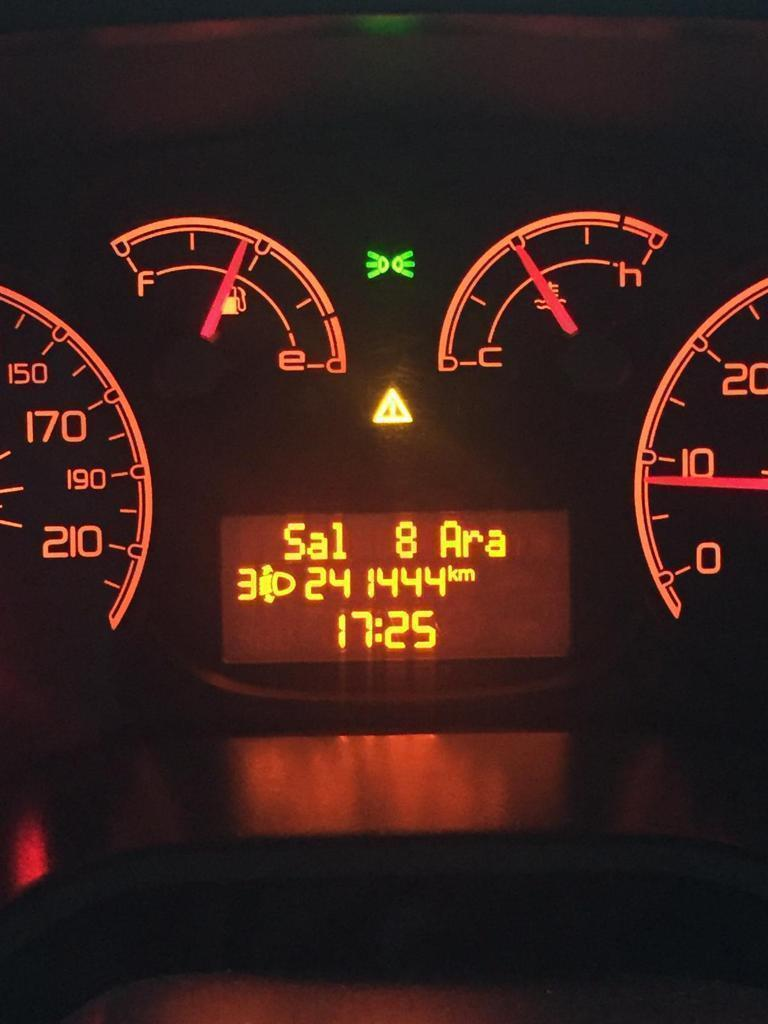1: (334, 610, 348, 649), (360, 565, 375, 600)
2: (302, 563, 329, 602), (384, 609, 409, 650)
3: (233, 566, 257, 602)
4: (375, 564, 399, 598), (423, 564, 445, 600), (328, 565, 351, 599), (400, 564, 422, 599)
5: (411, 608, 438, 651)
7: (349, 608, 374, 649)
8: (391, 519, 422, 560)
X: (436, 517, 463, 561), (281, 519, 306, 563), (330, 519, 349, 563), (307, 528, 330, 563), (484, 525, 507, 559), (462, 526, 484, 559), (374, 613, 384, 646), (458, 566, 477, 582), (446, 563, 459, 582)
odometer: (209, 501, 578, 670)
